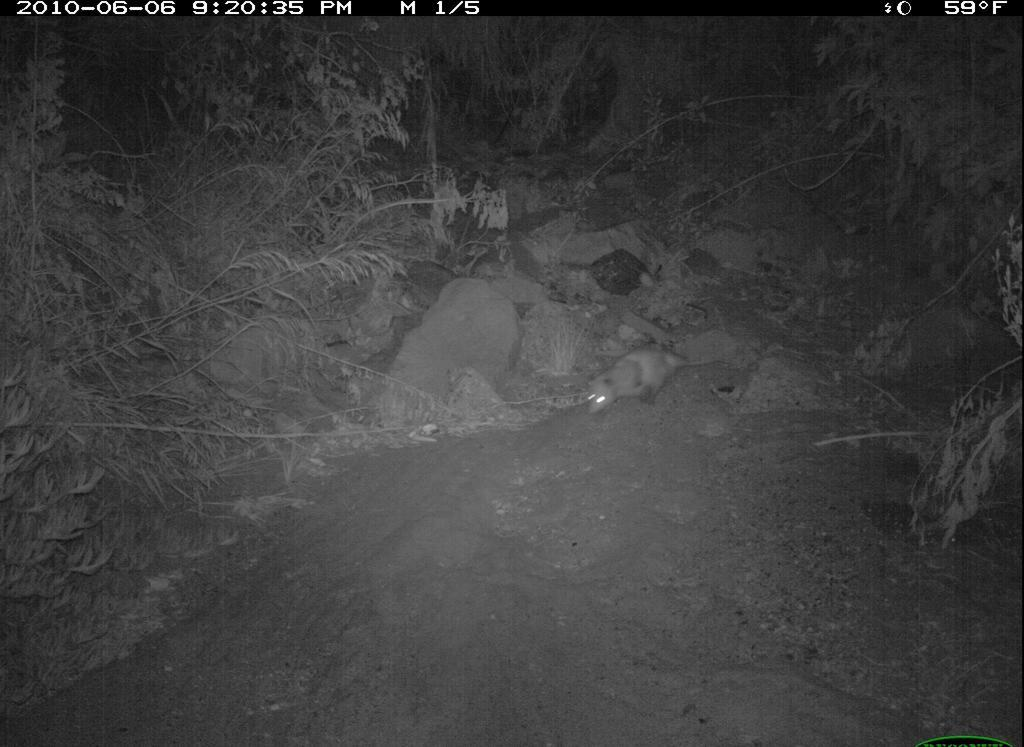opossum: (553, 335, 760, 431)
